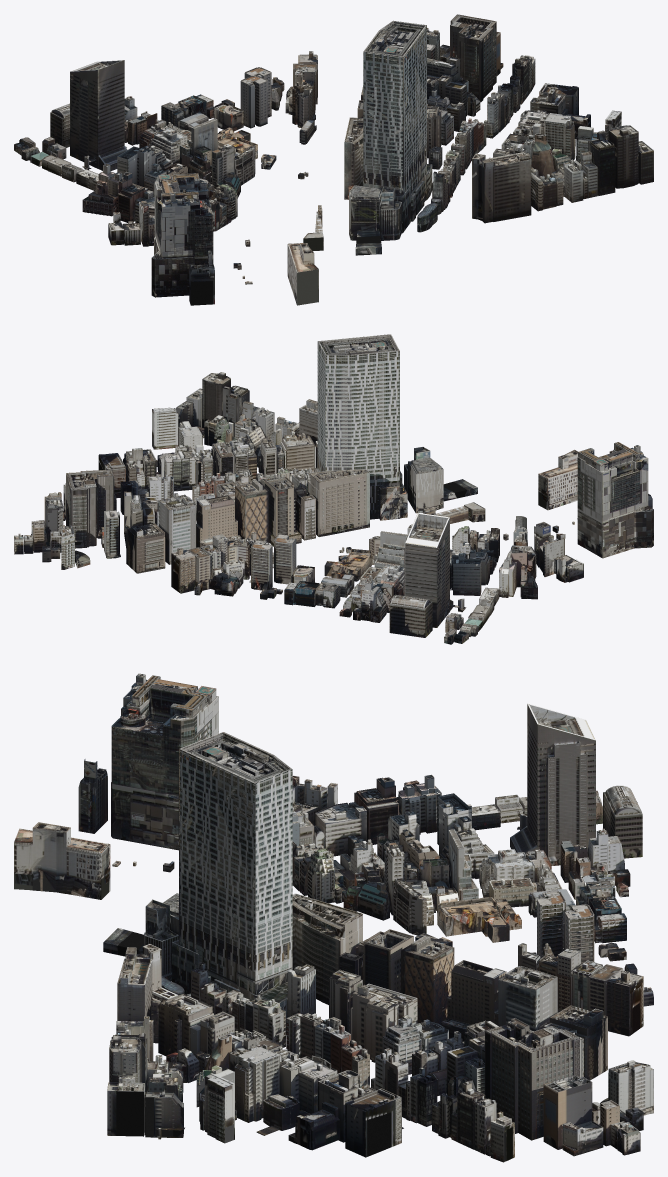
Rendered from 53393586_bldg_6697_1_op.fbx.
3 views of the same model, one above another, from view 1: azimuth 30°, elevation 25°; view 2: azimuth 150°, elevation 25°; view 3: azimuth 270°, elevation 25° (orthographic). The views are drawn at different scales.
Visible parts, largest first — view 1: bldg_6a232d96-14dc-41e4-84e0-f2831cc0bcec, bldg_c3c23e64-354b-43f4-82a4-83fdeee129ee, bldg_593af9b0-2ae3-4b6d-87ba-24e7826d16f1, bldg_9b4c5f6d-ff31-4d65-bd67-92a021d27c07, bldg_ca8a1d16-72d7-40b2-aad1-665b552c2305, bldg_fbfbda91-3460-4c07-b8e7-98c4c584b437, bldg_12926a5f-0528-4df0-99a9-1a580312458d, bldg_4612bf51-7ea9-411a-b499-ff835f7484d0, bldg_a7f940ba-20da-414e-b869-3826335a32d6, bldg_29cce52c-9afa-43bc-8d84-ae8a8831e229, bldg_8bb5fc77-97cc-4b10-9733-0e056f55b9f8, bldg_b5b1530f-7dfb-4564-9dde-116d924bee16 (+35 smaller); view 2: bldg_6a232d96-14dc-41e4-84e0-f2831cc0bcec, bldg_c3c23e64-354b-43f4-82a4-83fdeee129ee, bldg_593af9b0-2ae3-4b6d-87ba-24e7826d16f1, bldg_a7f940ba-20da-414e-b869-3826335a32d6, bldg_ca8a1d16-72d7-40b2-aad1-665b552c2305, bldg_b5195103-19ba-4d6d-9030-84a6dc83dea4, bldg_0c305f95-6182-4749-a7c0-6b3eb90456df, bldg_fbfbda91-3460-4c07-b8e7-98c4c584b437, bldg_206a783b-c971-478b-bfe4-8cf81b2a28ea, bldg_4612bf51-7ea9-411a-b499-ff835f7484d0, bldg_4d98c498-6809-4c81-8045-4ad630104723, bldg_4298b62c-e0c9-44bb-a3fb-05e82757eae8 (+37 smaller); view 3: bldg_6a232d96-14dc-41e4-84e0-f2831cc0bcec, bldg_c3c23e64-354b-43f4-82a4-83fdeee129ee, bldg_593af9b0-2ae3-4b6d-87ba-24e7826d16f1, bldg_ca8a1d16-72d7-40b2-aad1-665b552c2305, bldg_fbfbda91-3460-4c07-b8e7-98c4c584b437, bldg_a7f940ba-20da-414e-b869-3826335a32d6, bldg_0c305f95-6182-4749-a7c0-6b3eb90456df, bldg_acfd9b0d-36ac-4b9d-abb4-333392f1b7b0, bldg_4d98c498-6809-4c81-8045-4ad630104723, bldg_b5195103-19ba-4d6d-9030-84a6dc83dea4, bldg_ea621af2-a204-493c-a244-6fd1d4250872, bldg_9b4c5f6d-ff31-4d65-bd67-92a021d27c07 (+57 smaller).
Boxes of the visible parts, left/top/right/bottom form: bldg_6a232d96-14dc-41e4-84e0-f2831cc0bcec: left=363, top=20, right=432, bottom=233; bldg_c3c23e64-354b-43f4-82a4-83fdeee129ee: left=151, top=173, right=213, bottom=297; bldg_593af9b0-2ae3-4b6d-87ba-24e7826d16f1: left=70, top=60, right=127, bottom=170; bldg_9b4c5f6d-ff31-4d65-bd67-92a021d27c07: left=472, top=152, right=531, bottom=223; bldg_ca8a1d16-72d7-40b2-aad1-665b552c2305: left=450, top=14, right=496, bottom=102; bldg_fbfbda91-3460-4c07-b8e7-98c4c584b437: left=287, top=243, right=318, bottom=305; bldg_12926a5f-0528-4df0-99a9-1a580312458d: left=608, top=125, right=638, bottom=188; bldg_4612bf51-7ea9-411a-b499-ff835f7484d0: left=349, top=185, right=381, bottom=240; bldg_a7f940ba-20da-414e-b869-3826335a32d6: left=344, top=117, right=363, bottom=199; bldg_29cce52c-9afa-43bc-8d84-ae8a8831e229: left=240, top=75, right=267, bottom=128; bldg_8bb5fc77-97cc-4b10-9733-0e056f55b9f8: left=588, top=130, right=615, bottom=195; bldg_b5b1530f-7dfb-4564-9dde-116d924bee16: left=189, top=250, right=214, bottom=305; bldg_6a232d96-14dc-41e4-84e0-f2831cc0bcec: left=306, top=334, right=407, bottom=520; bldg_c3c23e64-354b-43f4-82a4-83fdeee129ee: left=577, top=442, right=653, bottom=558; bldg_593af9b0-2ae3-4b6d-87ba-24e7826d16f1: left=404, top=513, right=453, bottom=627; bldg_a7f940ba-20da-414e-b869-3826335a32d6: left=307, top=469, right=369, bottom=536; bldg_ca8a1d16-72d7-40b2-aad1-665b552c2305: left=66, top=469, right=114, bottom=548; bldg_b5195103-19ba-4d6d-9030-84a6dc83dea4: left=158, top=494, right=196, bottom=564; bldg_0c305f95-6182-4749-a7c0-6b3eb90456df: left=235, top=479, right=269, bottom=544; bldg_fbfbda91-3460-4c07-b8e7-98c4c584b437: left=538, top=449, right=578, bottom=510; bldg_206a783b-c971-478b-bfe4-8cf81b2a28ea: left=126, top=523, right=165, bottom=573; bldg_4612bf51-7ea9-411a-b499-ff835f7484d0: left=408, top=457, right=443, bottom=513; bldg_4d98c498-6809-4c81-8045-4ad630104723: left=196, top=495, right=241, bottom=547; bldg_4298b62c-e0c9-44bb-a3fb-05e82757eae8: left=265, top=476, right=301, bottom=546; bldg_6a232d96-14dc-41e4-84e0-f2831cc0bcec: left=172, top=732, right=292, bottom=1034; bldg_c3c23e64-354b-43f4-82a4-83fdeee129ee: left=111, top=673, right=218, bottom=850; bldg_593af9b0-2ae3-4b6d-87ba-24e7826d16f1: left=510, top=703, right=595, bottom=865; bldg_ca8a1d16-72d7-40b2-aad1-665b552c2305: left=485, top=1018, right=579, bottom=1140; bldg_fbfbda91-3460-4c07-b8e7-98c4c584b437: left=14, top=822, right=110, bottom=899; bldg_a7f940ba-20da-414e-b869-3826335a32d6: left=292, top=893, right=362, bottom=1004; bldg_0c305f95-6182-4749-a7c0-6b3eb90456df: left=401, top=935, right=454, bottom=1024; bldg_acfd9b0d-36ac-4b9d-abb4-333392f1b7b0: left=345, top=1088, right=403, bottom=1157; bldg_4d98c498-6809-4c81-8045-4ad630104723: left=441, top=960, right=506, bottom=1041; bldg_b5195103-19ba-4d6d-9030-84a6dc83dea4: left=498, top=966, right=557, bottom=1031; bldg_ea621af2-a204-493c-a244-6fd1d4250872: left=352, top=983, right=417, bottom=1062; bldg_9b4c5f6d-ff31-4d65-bd67-92a021d27c07: left=117, top=944, right=161, bottom=1021.
Bounding box in the file's own units: 564 × 186 × 432.
